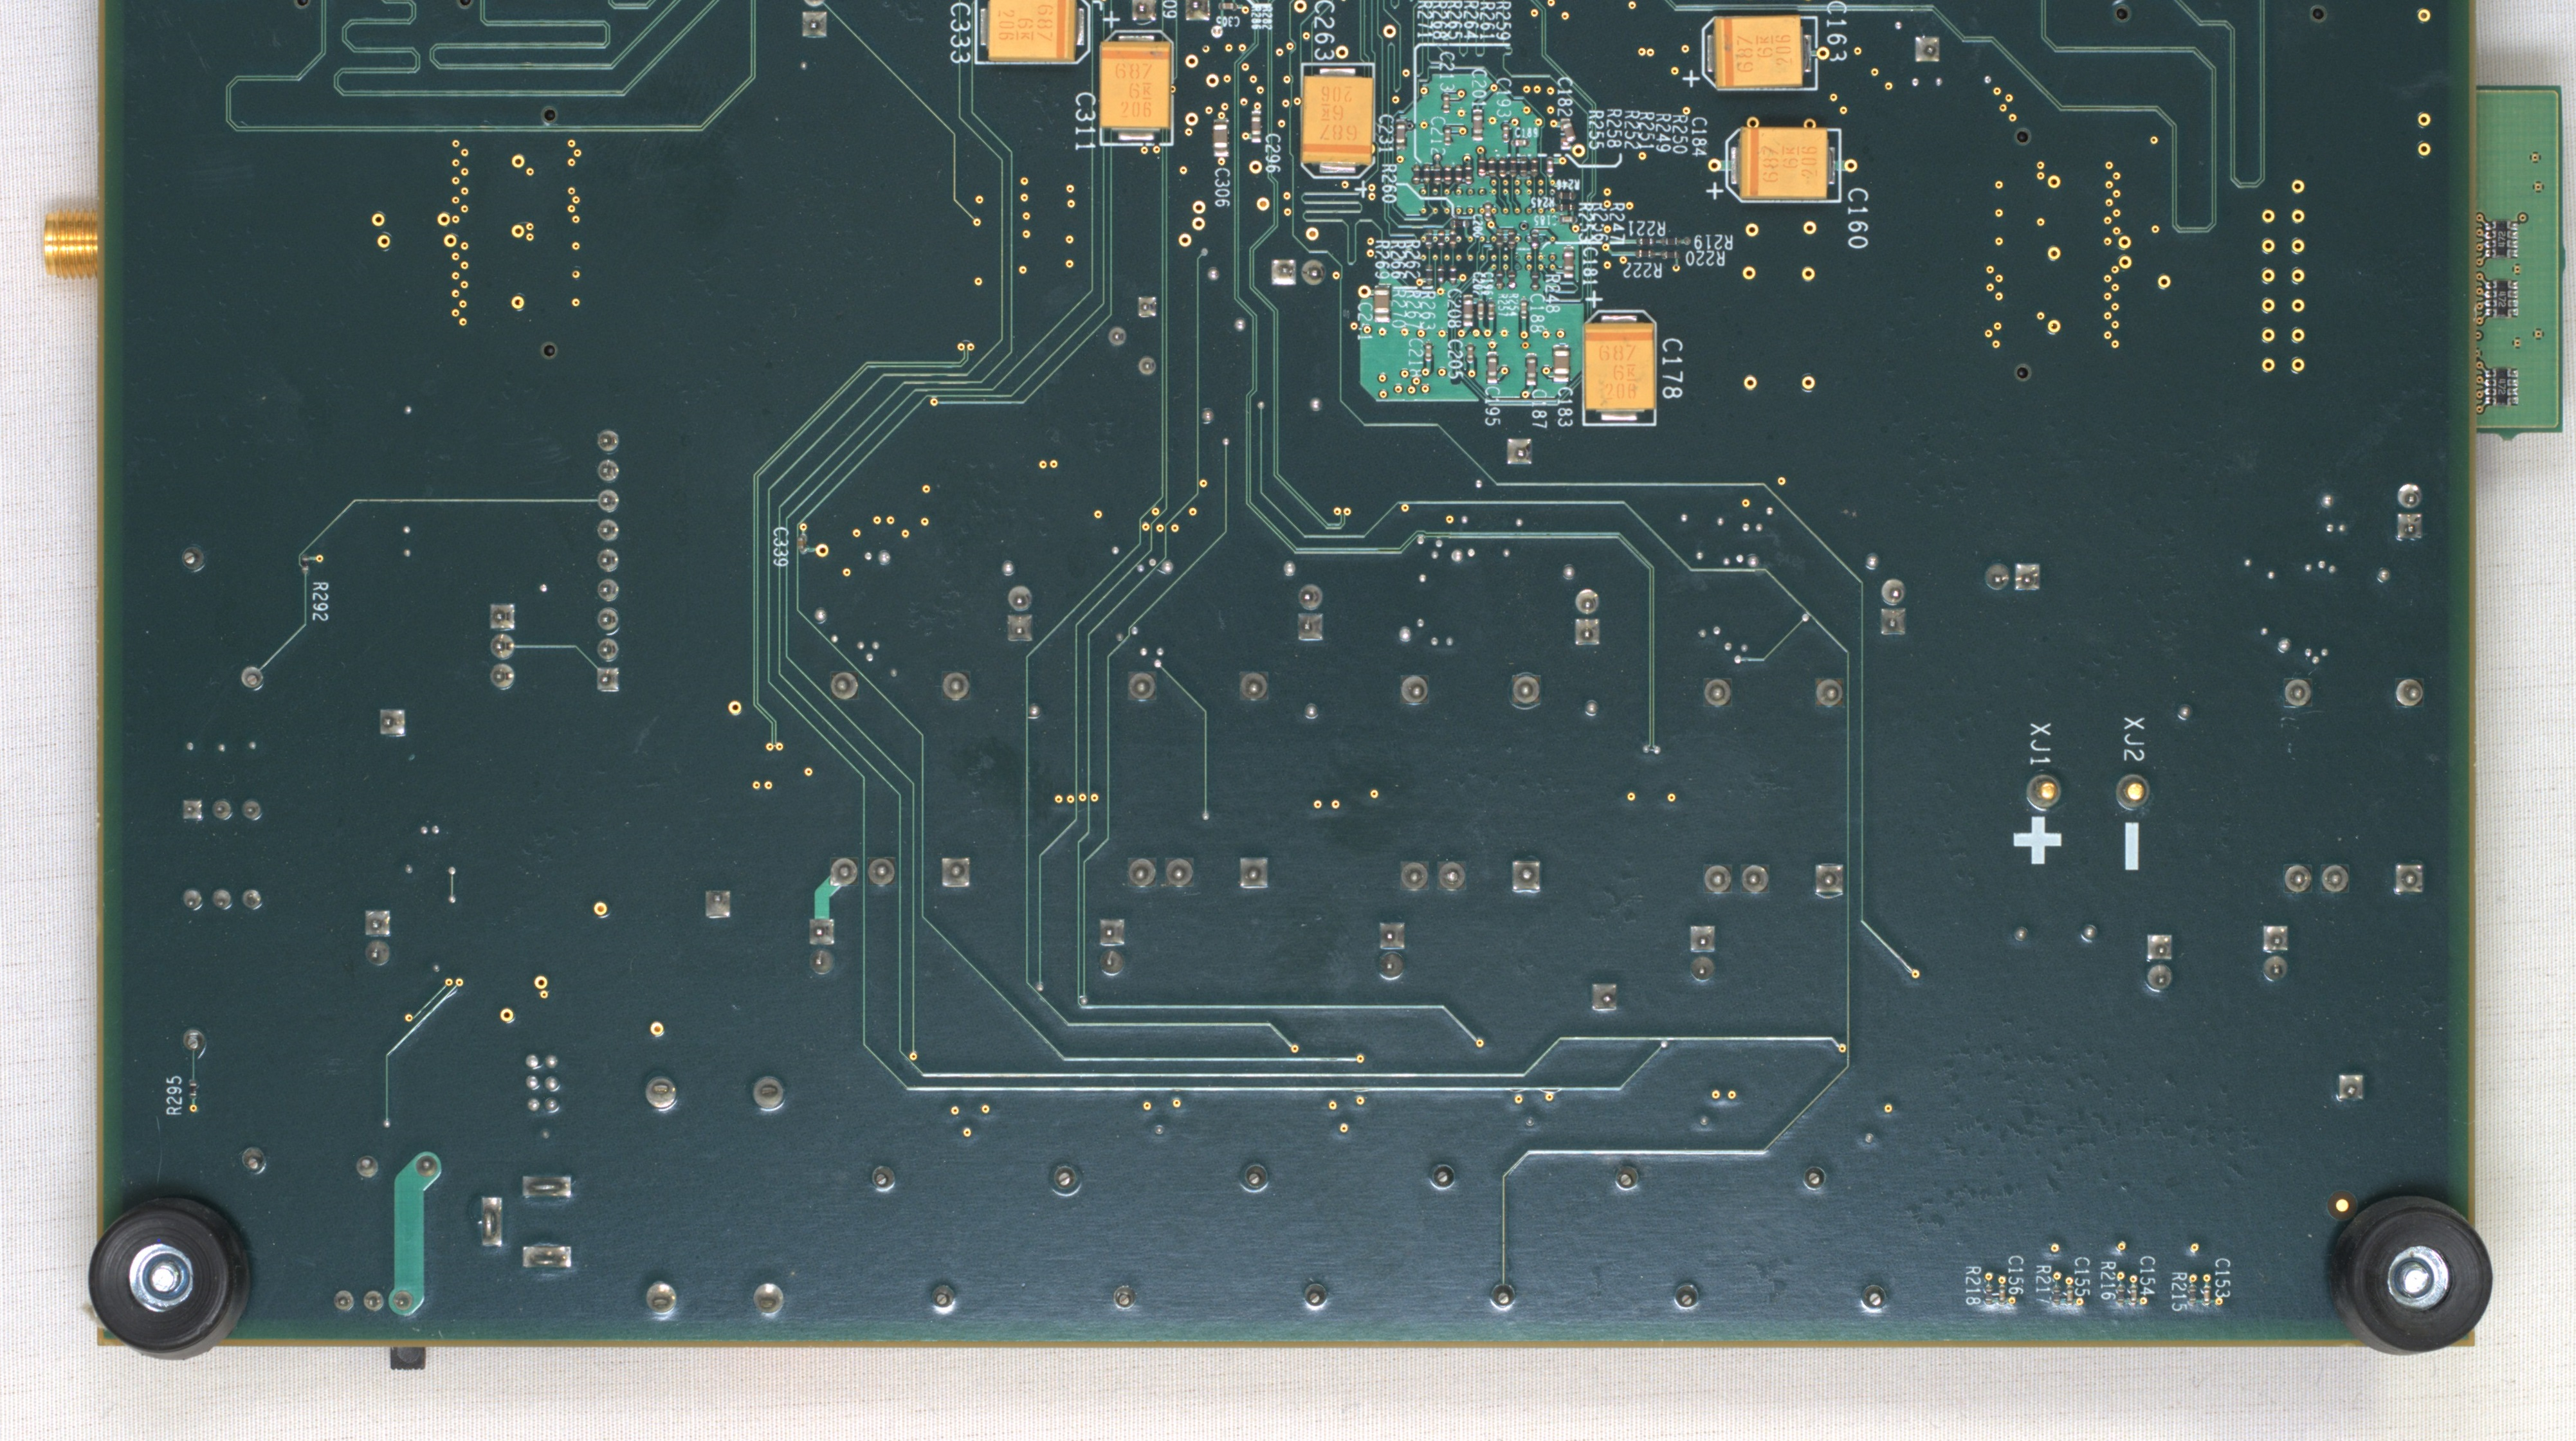capacitor C153: (2201, 1285, 2212, 1307)
capacitor C154: (2128, 1284, 2137, 1305)
capacitor C155: (2066, 1285, 2074, 1305)
capacitor C156: (1999, 1284, 2006, 1305)
capacitor C181: (1562, 246, 1575, 278)
capacitor C182: (1560, 118, 1576, 149)
capacitor C183: (1552, 345, 1569, 382)
capacitor C184: (1546, 156, 1553, 177)
capacitor C185: (1559, 214, 1576, 225)
capacitor C187: (1525, 352, 1537, 387)
capacitor C188: (1520, 295, 1529, 318)
capacitor C189: (1511, 138, 1530, 147)
capacitor C193: (1502, 122, 1509, 143)
capacitor C195: (1486, 352, 1499, 384)
capacitor C196: (1488, 299, 1495, 320)
capacitor C200: (1483, 202, 1491, 221)
capacitor C201: (1472, 108, 1483, 141)
capacitor C202: (1477, 299, 1484, 320)
capacitor C205: (1467, 341, 1474, 362)
capacitor C208: (1463, 294, 1474, 327)
capacitor C212: (1444, 126, 1451, 145)
capacitor C213: (1442, 92, 1449, 113)
capacitor C218: (1424, 341, 1433, 361)
capacitor C231: (1394, 118, 1407, 150)
capacitor C296: (1251, 111, 1261, 143)
capacitor C306: (1212, 118, 1230, 157)
capacitor C339: (796, 532, 809, 555)
capacitor unknown: (1375, 283, 1391, 324)
component text" "687 6K 206: (1316, 81, 1361, 145), (1596, 341, 1642, 401), (1762, 140, 1821, 186), (1734, 30, 1794, 74), (1113, 60, 1157, 118)
component text" 472: (2496, 228, 2507, 248), (2496, 377, 2507, 396), (2496, 290, 2507, 308)
connector unknown: (39, 191, 111, 288)
electrolytic capacitor" C160: (1725, 127, 1842, 203)
electrolytic capacitor" C163: (1700, 16, 1819, 92)
electrolytic capacitor" C178: (1583, 309, 1656, 426)
electrolytic capacitor" C263: (1300, 62, 1375, 180)
electrolytic capacitor" C311: (1099, 30, 1173, 147)
pins unknown: (633, 1070, 796, 1324), (821, 665, 980, 900), (2273, 672, 2433, 905), (1394, 667, 1550, 903), (1120, 665, 1276, 896), (1697, 670, 1851, 903), (469, 1167, 582, 1278), (179, 796, 265, 916), (591, 423, 628, 698), (235, 1139, 442, 1183), (1106, 292, 1168, 382), (485, 599, 522, 695), (320, 1285, 421, 1317), (800, 912, 844, 981), (1980, 553, 2043, 599), (1684, 919, 1721, 992), (1875, 573, 1913, 645), (2388, 481, 2429, 546), (2256, 918, 2293, 988), (357, 903, 396, 967), (2141, 926, 2176, 995), (1373, 918, 1408, 985), (1293, 578, 1327, 649), (1093, 911, 1127, 980), (1263, 255, 1332, 288), (1003, 582, 1035, 649), (1573, 585, 1605, 651), (1129, 0, 1214, 23), (1583, 976, 1621, 1020), (2330, 1066, 2371, 1105), (699, 882, 736, 925), (373, 704, 410, 739), (1911, 32, 1944, 69), (1502, 435, 1536, 467), (179, 1024, 209, 1054), (235, 661, 267, 690)
resistor R215: (2189, 1284, 2197, 1307)
resistor R216: (2116, 1284, 2125, 1308)
resistor R217: (2052, 1285, 2059, 1307)
resistor R218: (1985, 1284, 1992, 1305)
resistor R219: (1661, 235, 1681, 246)
resistor R220: (1661, 249, 1679, 258)
resistor R221: (1637, 237, 1656, 246)
resistor R222: (1635, 249, 1654, 258)
resistor R245: (1557, 203, 1576, 210)
resistor R246: (1557, 191, 1576, 200)
resistor R247: (1532, 228, 1539, 249)
resistor R248: (1530, 271, 1539, 290)
resistor R249: (1520, 156, 1527, 177)
resistor R250: (1530, 157, 1539, 177)
resistor R251: (1509, 157, 1518, 177)
resistor R252: (1499, 157, 1507, 177)
resistor R253: (1495, 228, 1504, 248)
resistor R254: (1507, 269, 1516, 290)
resistor R255: (1477, 157, 1486, 177)
resistor R256: (1507, 228, 1516, 249)
resistor R257: (1497, 271, 1504, 290)
resistor R258: (1488, 157, 1497, 177)
resistor R259: (1465, 164, 1474, 184)
resistor R260: (1449, 219, 1470, 228)
resistor R261: (1454, 164, 1463, 182)
resistor R262: (1449, 230, 1456, 248)
resistor R263: (1449, 265, 1458, 285)
resistor R264: (1445, 164, 1453, 184)
resistor R265: (1433, 164, 1442, 184)
resistor R266: (1438, 230, 1445, 249)
resistor R267: (1437, 265, 1445, 283)
resistor R268: (1422, 163, 1431, 184)
resistor R269: (1426, 228, 1433, 249)
resistor R270: (1426, 263, 1433, 285)
resistor R271: (1412, 163, 1421, 184)
resistor R292: (301, 553, 310, 575)
resistor R295: (189, 1079, 198, 1098)
resistor network" unknown: (2484, 219, 2519, 260), (2484, 368, 2519, 408), (2486, 278, 2519, 318)
test point" XJ1: (2020, 771, 2063, 812)
test point" XJ2: (2111, 771, 2155, 812), (2109, 769, 2153, 810)
text +: (2010, 813, 2065, 868), (1704, 180, 1725, 202), (1583, 290, 1605, 309), (1681, 69, 1700, 88), (1353, 179, 1371, 200), (1102, 11, 1122, 28)
text -: (2121, 819, 2141, 875)
text 1: (1357, 332, 1375, 341)
text C153: (2213, 1257, 2233, 1300)
text C154: (2139, 1255, 2157, 1296)
text C155: (2074, 1255, 2091, 1298)
text C156: (2006, 1252, 2024, 1296)
text C160: (1845, 186, 1870, 251)
text C163: (1824, 0, 1849, 64)
text C178: (1661, 338, 1684, 401)
text C181: (1582, 246, 1599, 286)
text C182: (1555, 74, 1575, 117)
text C183: (1555, 387, 1575, 428)
text C184: (1690, 115, 1709, 159)
text C185: (1532, 214, 1559, 226)
text C187: (1530, 387, 1548, 430)
text C188: (1529, 292, 1546, 332)
text C189: (1513, 126, 1539, 138)
text C193: (1495, 74, 1513, 118)
text C195: (1483, 384, 1502, 428)
text C196: (1483, 271, 1495, 295)
text C2: (1355, 301, 1373, 324)
text C200: (1470, 212, 1484, 239)
text C201: (1470, 65, 1488, 108)
text C202: (1472, 271, 1483, 297)
text C205: (1445, 338, 1465, 380)
text C208: (1447, 288, 1463, 329)
text C212: (1428, 115, 1447, 159)
text C213: (1438, 50, 1456, 92)
text C218: (1407, 338, 1424, 378)
text C231: (1376, 111, 1394, 154)
text C263: (1313, 0, 1336, 62)
text C296: (1263, 131, 1283, 177)
text C306: (1212, 166, 1233, 209)
text C311: (1072, 88, 1099, 152)
text C339: (773, 525, 789, 568)
text R215: (2171, 1271, 2189, 1312)
text R216: (2100, 1259, 2116, 1301)
text R217: (2035, 1262, 2052, 1305)
text R218: (1964, 1264, 1982, 1305)
text R219: (1691, 233, 1734, 249)
text R220: (1684, 249, 1727, 267)
text R221: (1626, 219, 1667, 237)
text R222: (1621, 262, 1663, 279)
text R245: (1529, 194, 1555, 209)
text R246: (1555, 179, 1582, 191)
text R247: (1610, 202, 1626, 242)
text R248: (1545, 274, 1560, 313)
text R249: (1654, 111, 1670, 154)
text R250: (1672, 111, 1688, 156)
text R251: (1640, 110, 1656, 149)
text R252: (1622, 108, 1640, 150)
text R253: (1576, 202, 1594, 242)
text R254: (1509, 292, 1520, 316)
text R255: (1587, 106, 1605, 150)
text R256: (1594, 202, 1610, 242)
text R257: (1499, 292, 1509, 316)
text R258: (1605, 106, 1622, 149)
text R259: (1495, 0, 1511, 41)
text R260: (1380, 163, 1398, 205)
text R261: (1479, 0, 1495, 41)
text R262: (1405, 239, 1421, 279)
text R263: (1421, 290, 1437, 332)
text R264: (1463, 0, 1479, 41)
text R265: (1447, 0, 1463, 41)
text R266: (1391, 239, 1405, 281)
text R267: (1407, 288, 1421, 329)
text R268: (1433, 0, 1447, 41)
text R269: (1375, 239, 1391, 279)
text R270: (1391, 286, 1407, 329)
text R271: (1417, 0, 1433, 39)
text R292: (311, 580, 329, 622)
text R295: (165, 1073, 184, 1116)
text XJ1: (2028, 721, 2052, 766)
text XJ2: (2121, 716, 2150, 764)
